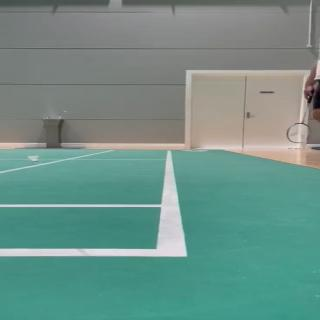Shuttle: (27, 154, 39, 164)
